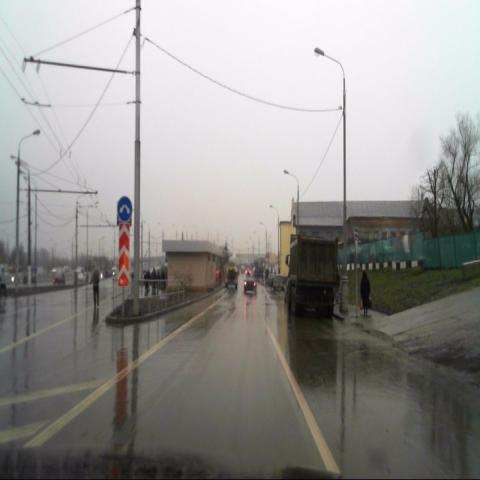4_2_3: (118, 196, 132, 223)
